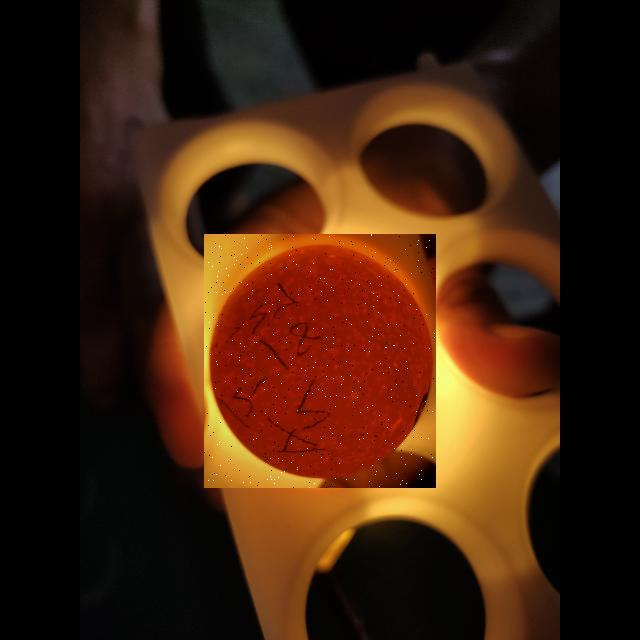Infertile: (204, 234, 436, 488)
